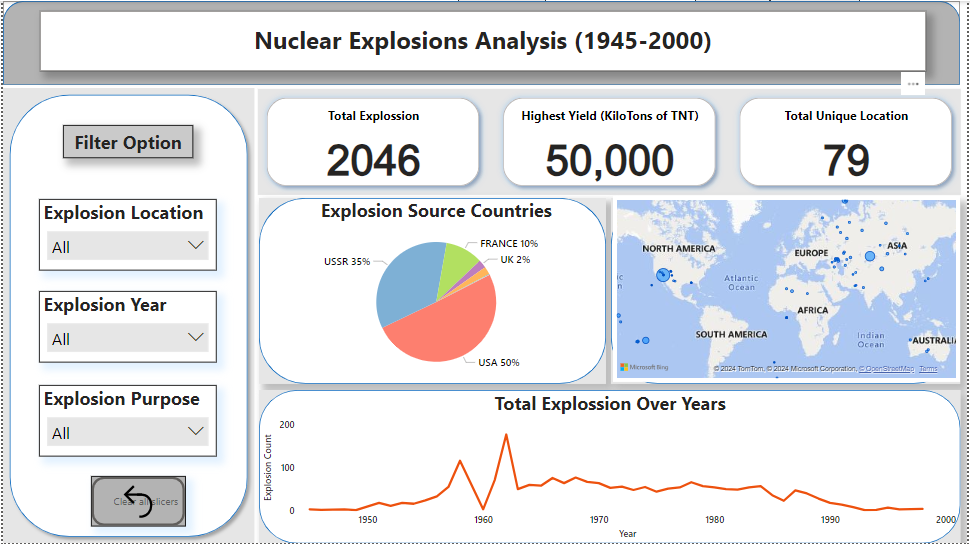

This screenshot's page, from the dashboard's own definition file:
{"tool":"powerbi","page":{"name":"Page 1","canvas":[1280,720],"ordinal":0},"visuals":[{"type":"shape","box":[0,0,1271.4,111.3],"z":0,"group":"g2"},{"type":"cardVisual","fields":{"Data":["in.Total Explossion","in.Highest Yeild","in.Total Unique Location"]},"box":[333.9,111.3,946.1,151.3],"z":0},{"type":"shape","box":[0,115.2,333.9,605],"z":0,"group":"g1"},{"type":"textbox","box":[48.5,12.8,1177.3,79.9],"z":1000,"group":"g2"},{"type":"group","id":"g1","title":"Group 1","box":[0,115.2,333.9,605],"z":1000,"group":"g3"},{"type":"slicer","title":"Explosion Location","fields":{"Values":["in.WEAPON DEPLOYMENT LOCATION"]},"box":[48.3,262.8,236,94.7],"z":1000,"group":"g1"},{"type":"shape","box":[339.6,261.1,460.9,246.9],"z":2000},{"type":"slicer","title":"Explosion Year","fields":{"Values":["in.Date.Year"]},"box":[48.3,384.4,236,94.7],"z":2000,"group":"g1"},{"type":"pieChart","title":"Explosion Source Countries","fields":{"Y":["in.Total Explossion"],"Category":["in.WEAPON SOURCE COUNTRY"]},"box":[339.6,259.7,470.9,246.9],"z":3000},{"type":"slicer","title":"Explosion Purpose","fields":{"Values":["in.Data.Purpose"]},"box":[48.3,509.5,236,94.7],"z":3000,"group":"g1"},{"type":"shape","box":[807.7,261.1,463.8,246.9],"z":4000},{"type":"actionButton","title":"Reset","box":[117,630.3,125.6,67.1],"z":4003,"group":"g1"},{"type":"shape","box":[339.6,516.6,931.8,204.1],"z":5000},{"type":"lineChart","title":"Total Explossion Over Years","fields":{"Category":["in.Date.Year"],"Y":["in.Total Explossion"]},"box":[341.5,516.6,929.6,202],"z":6000},{"type":"map","title":"Map","fields":{"Y":["Avg(in.Location.Cordinates.Latitude)"],"X":["Avg(in.Location.Cordinates.Longitude)"],"Category":["in.WEAPON DEPLOYMENT LOCATION"],"Size":["in.Total Explossion"]},"box":[809.8,259.2,461.2,246.7],"z":7000},{"type":"group","id":"g2","title":"Group 2","box":[0,0,1271.4,111.3],"z":8000},{"type":"textbox","box":[79.9,164.2,172.7,44.2],"z":9000,"group":"g3"},{"type":"group","id":"g3","title":"Group 3","box":[0,115.2,333.9,605],"z":9001}]}

Visuals, with their boxes in screenshot pixels (x1, y1, x2, y2), scaled from the page's 1280x720 canvas onto the 970x544 screenshot:
shape: select_region(0, 0, 963, 84)
cardVisual - in.Total Explossion x in.Highest Yeild: select_region(253, 84, 969, 198)
shape: select_region(0, 87, 253, 543)
textbox: select_region(37, 10, 929, 70)
"Group 1" group: select_region(0, 87, 253, 543)
"Explosion Location" slicer: select_region(37, 199, 215, 270)
shape: select_region(257, 197, 607, 384)
"Explosion Year" slicer: select_region(37, 290, 215, 362)
"Explosion Source Countries" pieChart: select_region(257, 196, 614, 383)
"Explosion Purpose" slicer: select_region(37, 385, 215, 457)
shape: select_region(612, 197, 964, 384)
"Reset" actionButton: select_region(89, 476, 184, 527)
shape: select_region(257, 390, 963, 543)
"Total Explossion Over Years" lineChart: select_region(259, 390, 963, 543)
"Map" map: select_region(614, 196, 963, 382)
"Group 2" group: select_region(0, 0, 963, 84)
textbox: select_region(61, 124, 191, 157)
"Group 3" group: select_region(0, 87, 253, 543)
